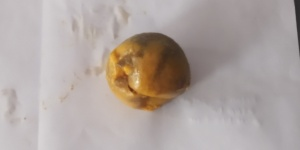BAD: (108, 33, 193, 112)
